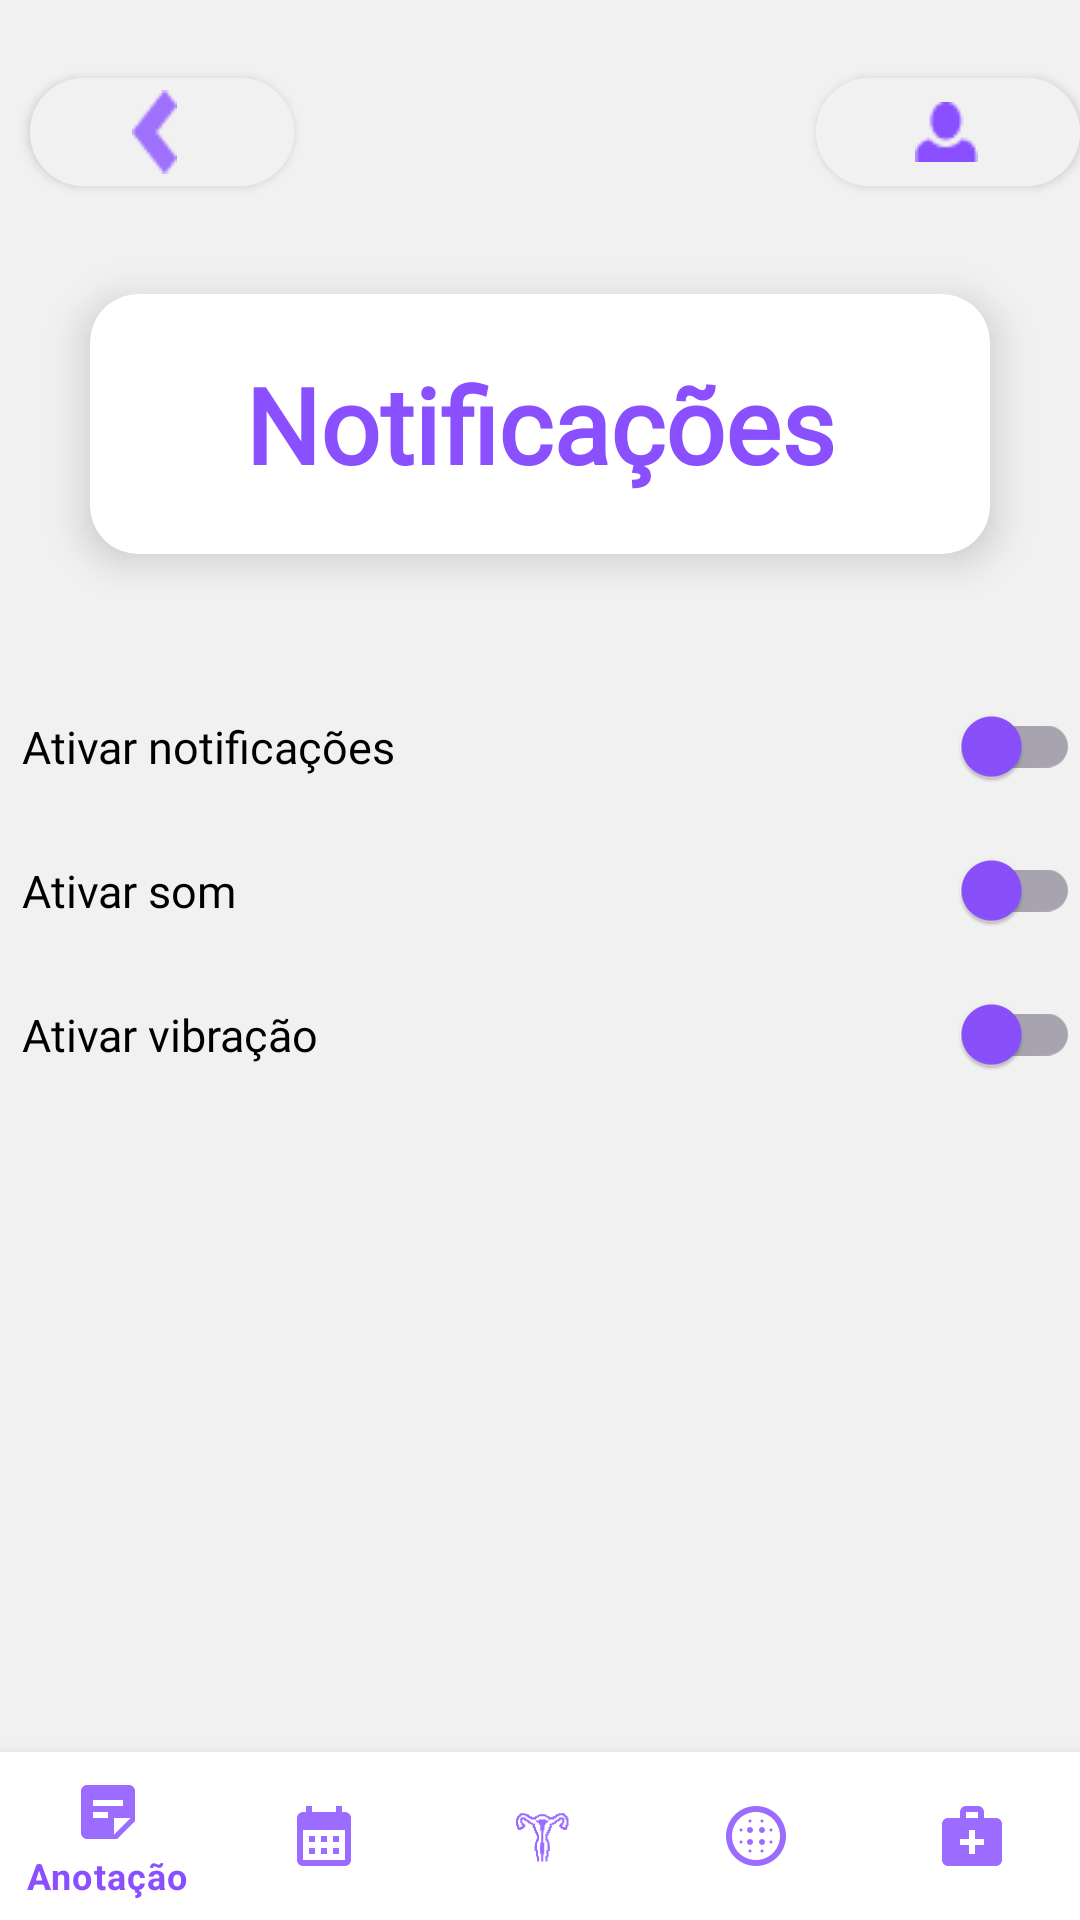

Icons on this 1080px×1920px Android screen, each with the point to tap as (x,y):
Voltar: (103,132)
